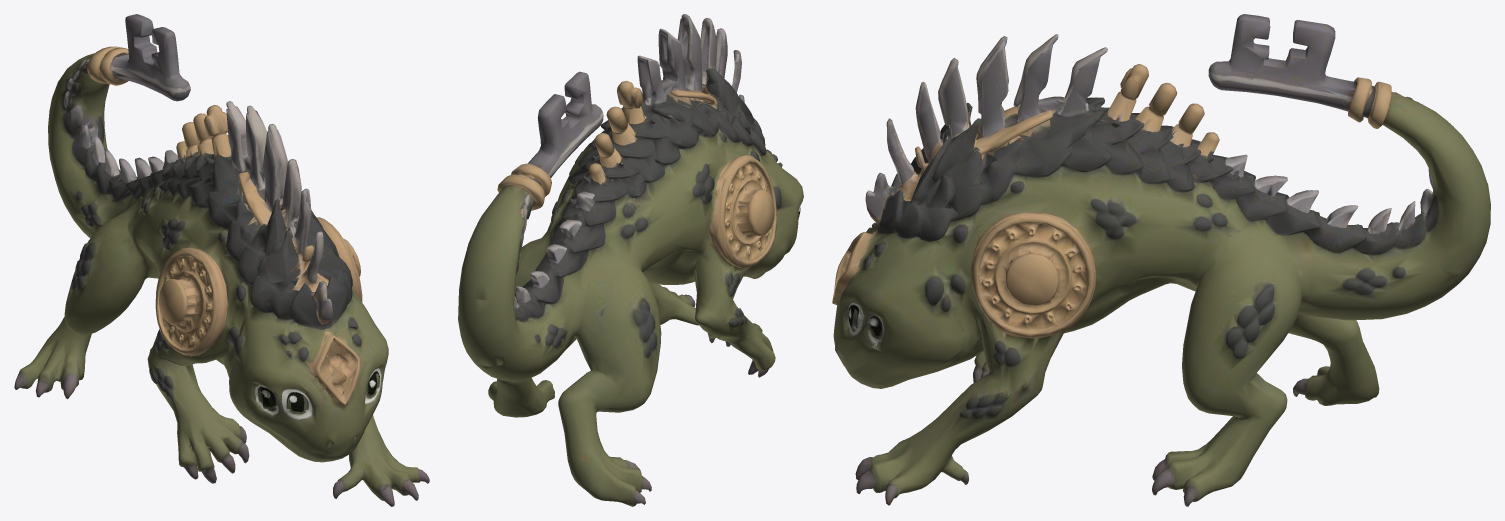
Rendered from tuatrune.glb.
The picture shows the model from 3 angles, left to right: view 1: azimuth 30°, elevation 25°; view 2: azimuth 150°, elevation 25°; view 3: azimuth 270°, elevation 25°; orthographic projection. The views are drawn at different scales.
Visible parts, largest first — view 1: Mesh_0; view 2: Mesh_0; view 3: Mesh_0.
Boxes of the visible parts, bbox=[...] form: Mesh_0: bbox=[14, 14, 429, 506]; Mesh_0: bbox=[458, 14, 803, 506]; Mesh_0: bbox=[832, 14, 1490, 506].
Size of the model in its own units: 0.87 by 1.37 by 1.9.
1 material, 1 textured.
